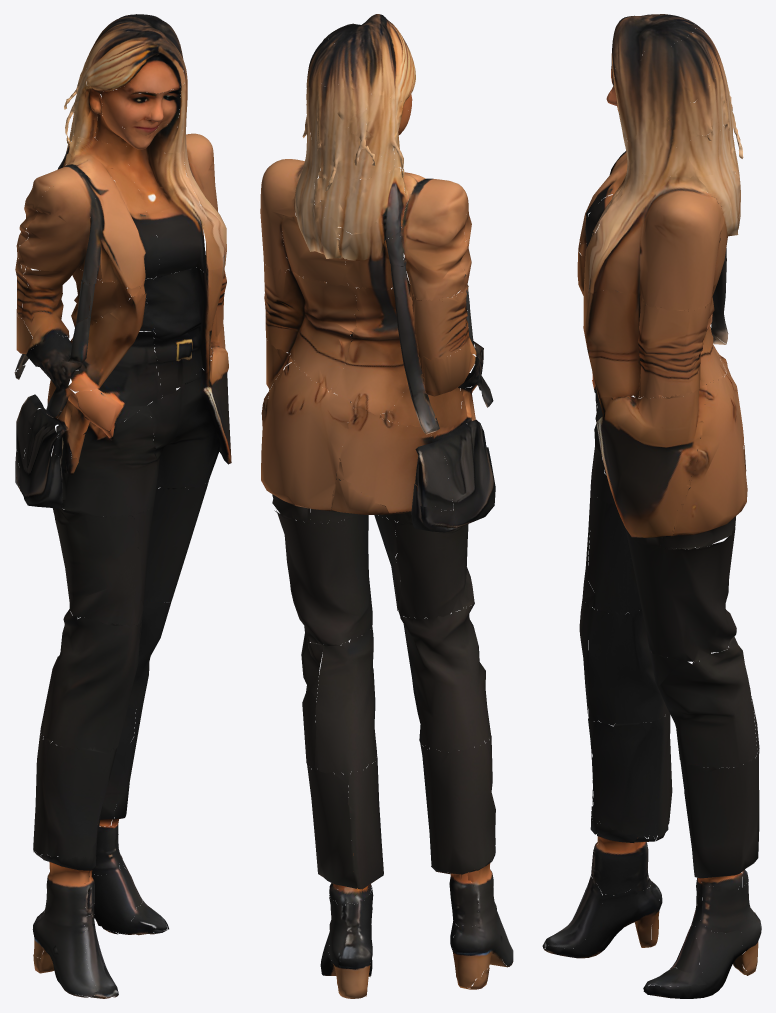
Rendered from catia-20000.glb.
3 renders of one model, left to right at view 1: azimuth 30°, elevation 25°; view 2: azimuth 150°, elevation 25°; view 3: azimuth 270°, elevation 25°, orthographic. The views are drawn at different scales.
Parts seen in each view (by area): view 1: tripo_node_6ca9ce25-2619-43d1-ad54-76d2a85b6c38; view 2: tripo_node_6ca9ce25-2619-43d1-ad54-76d2a85b6c38; view 3: tripo_node_6ca9ce25-2619-43d1-ad54-76d2a85b6c38.
Boxes of the visible parts, x1,y1,x2,y2 form: tripo_node_6ca9ce25-2619-43d1-ad54-76d2a85b6c38: [14, 14, 231, 998]; tripo_node_6ca9ce25-2619-43d1-ad54-76d2a85b6c38: [260, 14, 513, 998]; tripo_node_6ca9ce25-2619-43d1-ad54-76d2a85b6c38: [542, 14, 761, 998].
Size of the model in its own units: 0.4047 by 1.75 by 0.3564.
Materials: 1 (1 with a texture image).
